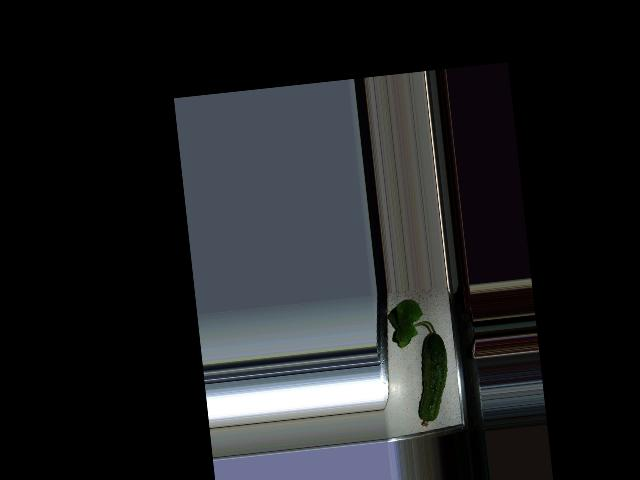cucumber: (410, 330, 453, 427)
